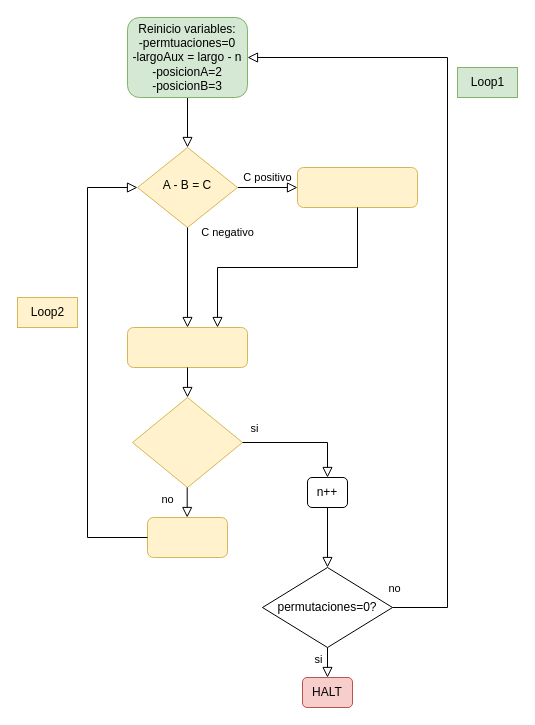
This 535x725 diagram has some shape labels left out. Each missing label, with the centre of its shape:
"-Permuto A y B -permutaciones++" belongs at pixel 357 187.
"largoAux = 0?" belongs at pixel 187 442.
"largoAux--" belongs at pixel 187 347.
"posicionA++ posicionB++" belongs at pixel 187 537.
